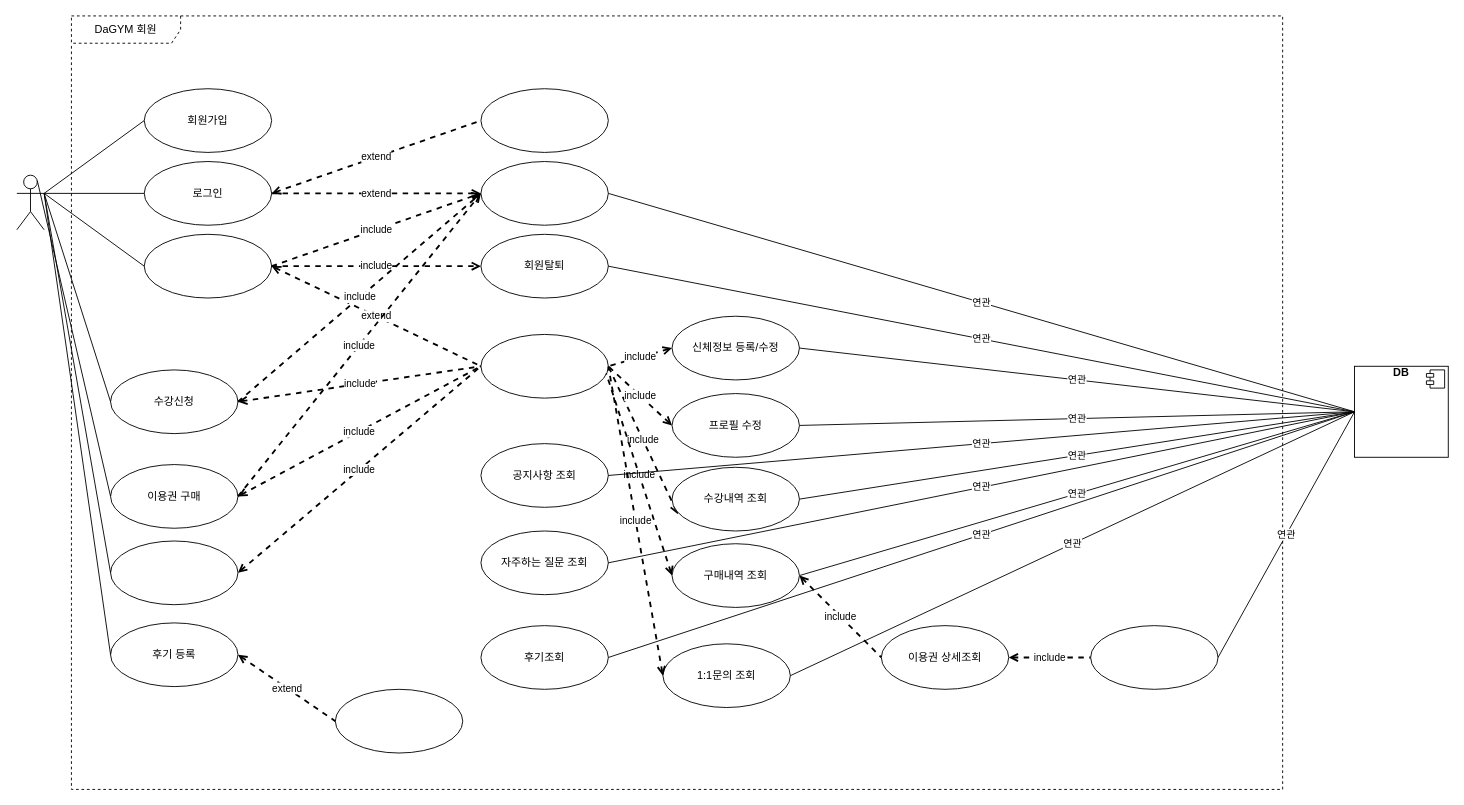
Image size: 1464x805. Some labels were removed from this diagram. The centre of each missing label's shape, as x and y in pixels:
"1:1문의 등록" belongs at pixel 174 572.
"내 정보 조회" belongs at pixel 544 366.
"로그인 성공" belongs at pixel 544 193.
"로그인 실패" belongs at pixel 544 120.
"마이페이지" belongs at pixel 207 265.
"사진 업로드" belongs at pixel 398 720.
"이용권 결제" belongs at pixel 1154 657.
"이용자" belongs at pixel 30 202.
